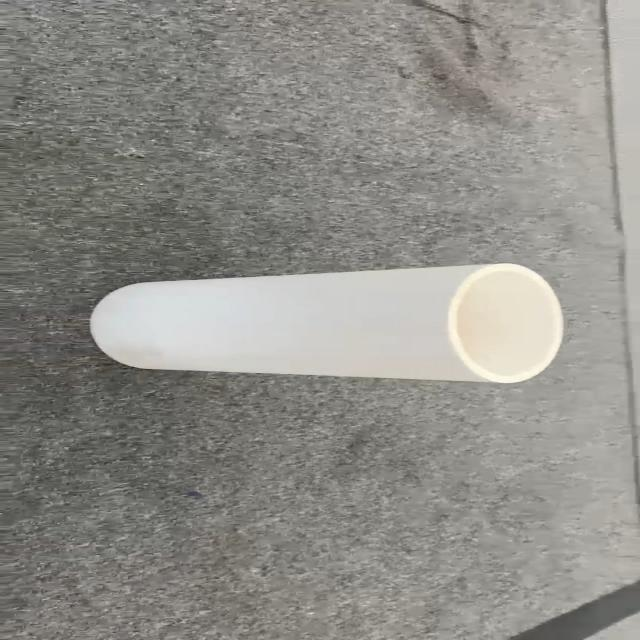coral: (88, 261, 564, 384)
